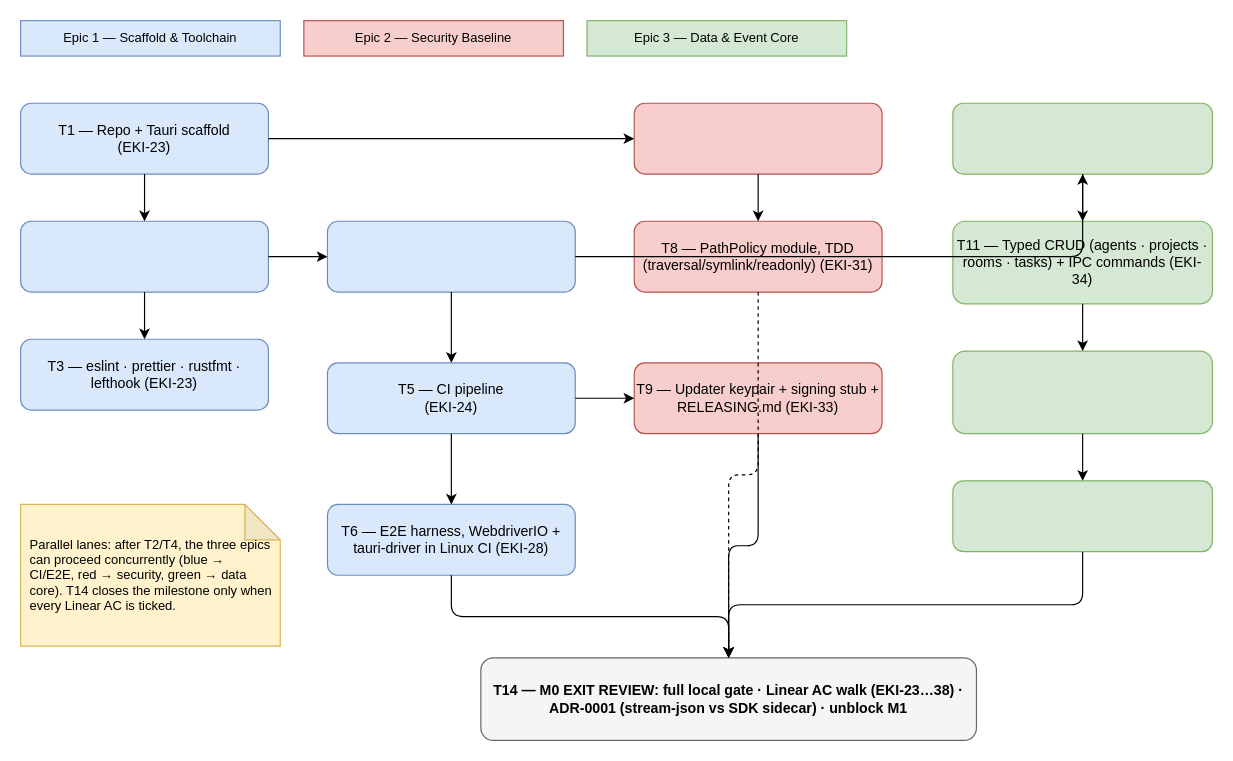
This 1233x761 diagram has some shape labels left out. The shapes that lost their labels are listed below. From the top down, each one's centre as x and y in pixels, then its label:
point 757,138: T7 — Capabilities (core:default) + strict CSP + register (EKI-29)
point 1082,138: T10 — SQLite store + full schema v1 + migrations, TDD (EKI-34)
point 143,256: T2 — Strict TS · Tailwind v4 · shadcn · vitest (EKI-23)
point 450,256: T4 — tauri-specta typed IPC skeleton + drift test (EKI-26)
point 1082,392: T12 — DomainEvent bus + emit on mutations + webview bridge (EKI-37)
point 1082,516: T13 — Settings service + theme bootstrapping (3 themes) (EKI-38)
